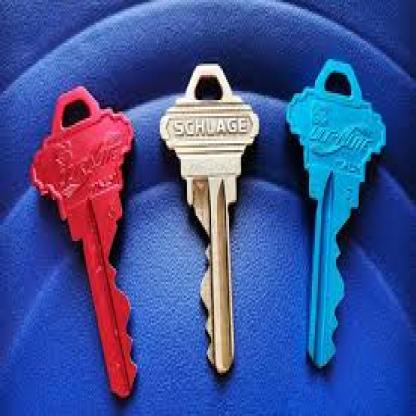key: (29, 84, 141, 404), (278, 58, 386, 374), (157, 57, 259, 378)
